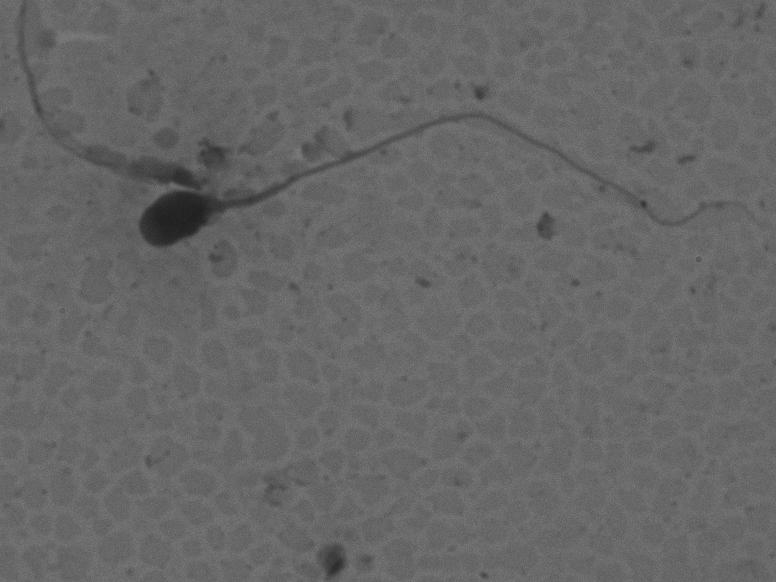Abnormal: (116, 103, 764, 281)
